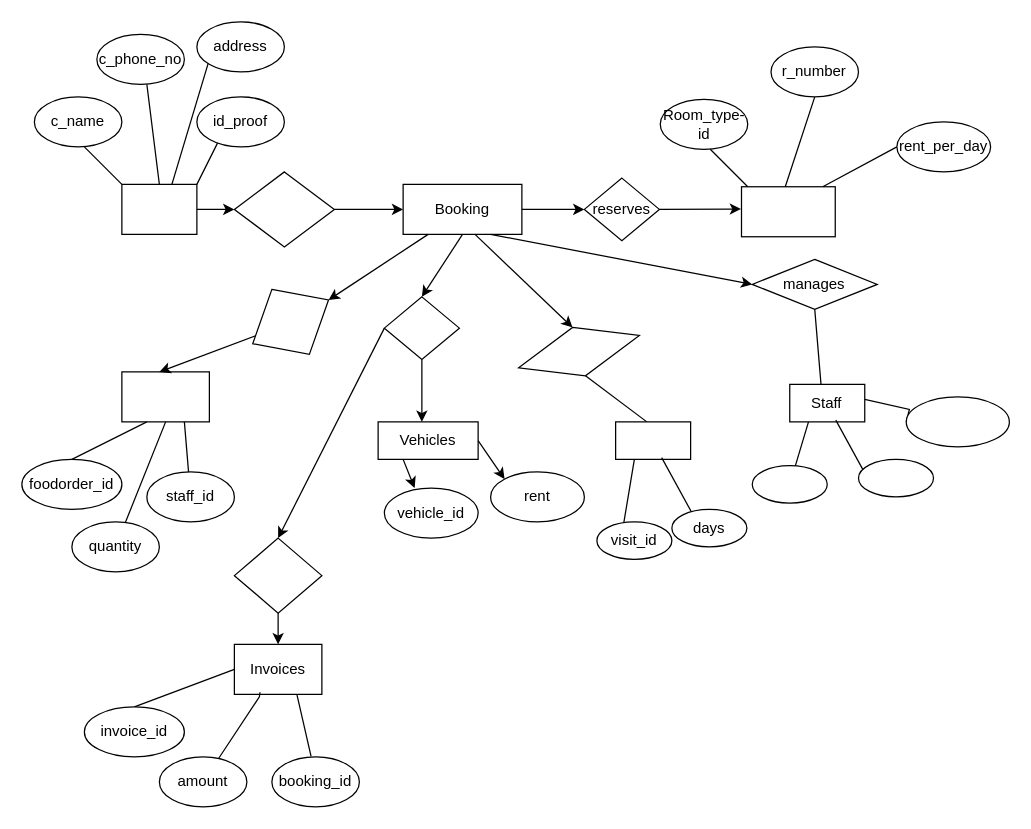
This 1031x829 diagram has some shape labels left out. Each missing label, with the box of its shape:
creates: (233, 537, 322, 613)
Customer: (121, 183, 197, 234)
drives: (383, 296, 459, 359)
Food: (121, 371, 209, 422)
makes: (233, 171, 334, 247)
orders: (232, 266, 348, 376)
Room: (740, 186, 835, 237)
s_id: (751, 464, 827, 503)
s_mobile num: (905, 396, 1009, 447)
s_name: (857, 458, 934, 497)
Site visit: (614, 421, 691, 459)
uses: (511, 310, 646, 392)
